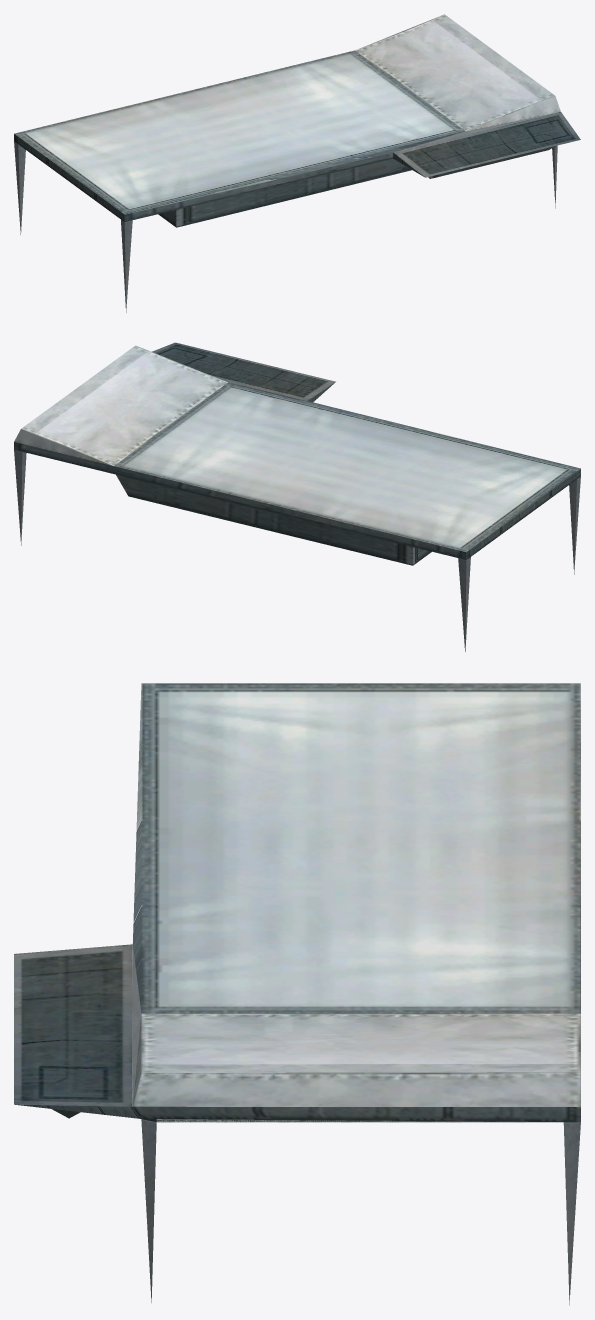
File: eqp_camping_cot_s2_l1.fbx
3 views of the same model, one above another, from view 1: azimuth 30°, elevation 25°; view 2: azimuth 150°, elevation 25°; view 3: azimuth 270°, elevation 25° (orthographic). The views are drawn at different scales.
Visible parts, largest first — view 1: mesh_node; view 2: mesh_node; view 3: mesh_node.
Part boxes in pixels (x1,y1,x2,y2): mesh_node: [14, 14, 580, 312]; mesh_node: [14, 342, 580, 651]; mesh_node: [14, 683, 580, 1305].
Size of the model in its own units: 1.95 by 0.4948 by 1.1.
1 material, 1 textured.
